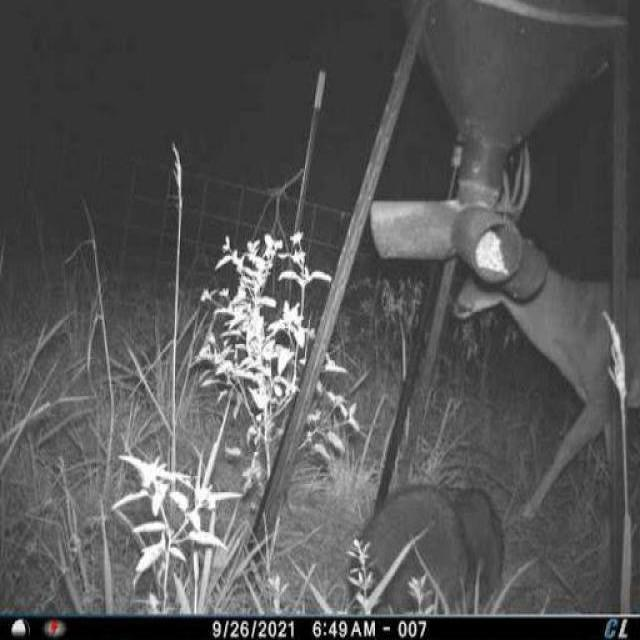deer: (440, 140, 640, 535)
